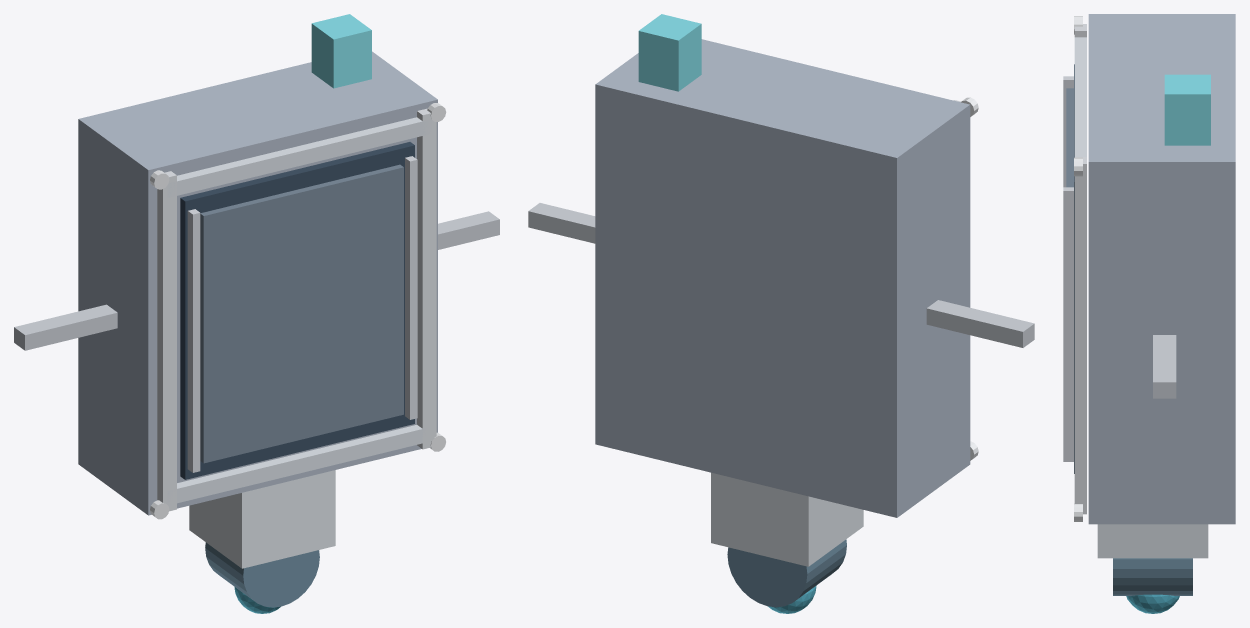
Rendered from sat_001_bus_serviceable.glb.
3 renders of one model, left to right at view 1: azimuth 30°, elevation 25°; view 2: azimuth 150°, elevation 25°; view 3: azimuth 270°, elevation 25°, orthographic. The views are drawn at different scales.
Visible parts, largest first — view 1: Bus structural core, Service bay tray, Service bay depression, Optics housing, Structural side rail -0.61, Structural side rail 0.61, Structural upper-lower rail 0.69, Structural upper-lower rail -0.69, Optical barrel, Star tracker, Bay guide rail -0.51, Bay guide rail 0.51 (+2 smaller); view 2: Bus structural core, Optics housing, Optical barrel, Star tracker, Wing boom -1, Wing boom 1; view 3: Bus structural core, Structural side rail 0.61, Optics housing, Star tracker, Bay guide rail 0.51, Optical barrel, Structural upper-lower rail 0.69, Wing boom 1, Service bay tray, Imager lens, Bay guide rail -0.51, Service bay depression.
Part boxes in pixels (box(x1,y1,x2,y2)): Bus structural core: box(78, 51, 437, 515); Service bay tray: box(200, 164, 403, 463); Service bay depression: box(180, 142, 414, 479); Optics housing: box(189, 470, 335, 568); Structural side rail -0.61: box(157, 171, 176, 511); Structural side rail 0.61: box(417, 108, 436, 449); Structural upper-lower rail 0.69: box(167, 117, 431, 197); Structural upper-lower rail -0.69: box(167, 425, 425, 503); Optical barrel: box(205, 542, 319, 607); Star tracker: box(311, 14, 371, 88); Bay guide rail -0.51: box(187, 209, 200, 472); Bay guide rail 0.51: box(405, 156, 417, 419); Bus structural core: box(595, 39, 970, 517); Optics housing: box(711, 472, 863, 566); Optical barrel: box(727, 539, 846, 607); Star tracker: box(638, 14, 701, 91); Wing boom -1: box(926, 300, 1034, 347); Wing boom 1: box(528, 203, 595, 243); Bus structural core: box(1088, 14, 1235, 524); Structural side rail 0.61: box(1074, 157, 1086, 514); Optics housing: box(1097, 524, 1208, 558); Star tracker: box(1164, 74, 1210, 145); Bay guide rail 0.51: box(1063, 187, 1073, 461); Optical barrel: box(1113, 558, 1192, 595); Structural upper-lower rail 0.69: box(1074, 37, 1086, 156); Wing boom 1: box(1153, 335, 1176, 398); Service bay tray: box(1066, 88, 1073, 187); Imager lens: box(1126, 594, 1179, 613); Bay guide rail -0.51: box(1063, 76, 1073, 187); Service bay depression: box(1074, 64, 1074, 473).
Size of the model in its own units: 2.23 by 2.47 by 0.6675.
